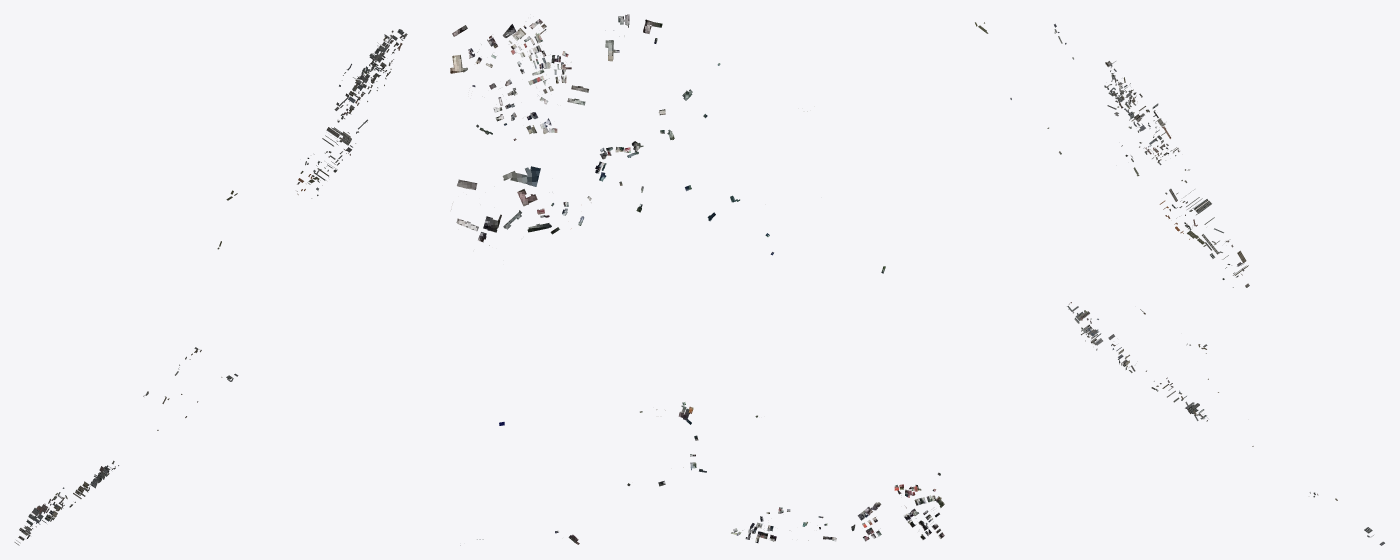
File: tile_LOD2_r1_c1.glb
The picture shows the model from 3 angles, left to right: view 1: azimuth 30°, elevation 25°; view 2: azimuth 150°, elevation 25°; view 3: azimuth 270°, elevation 25°; orthographic projection. The views are drawn at different scales.
Bounding box in the file's own units: 1398 × 1270 × 927.
919 materials, 919 textured.
